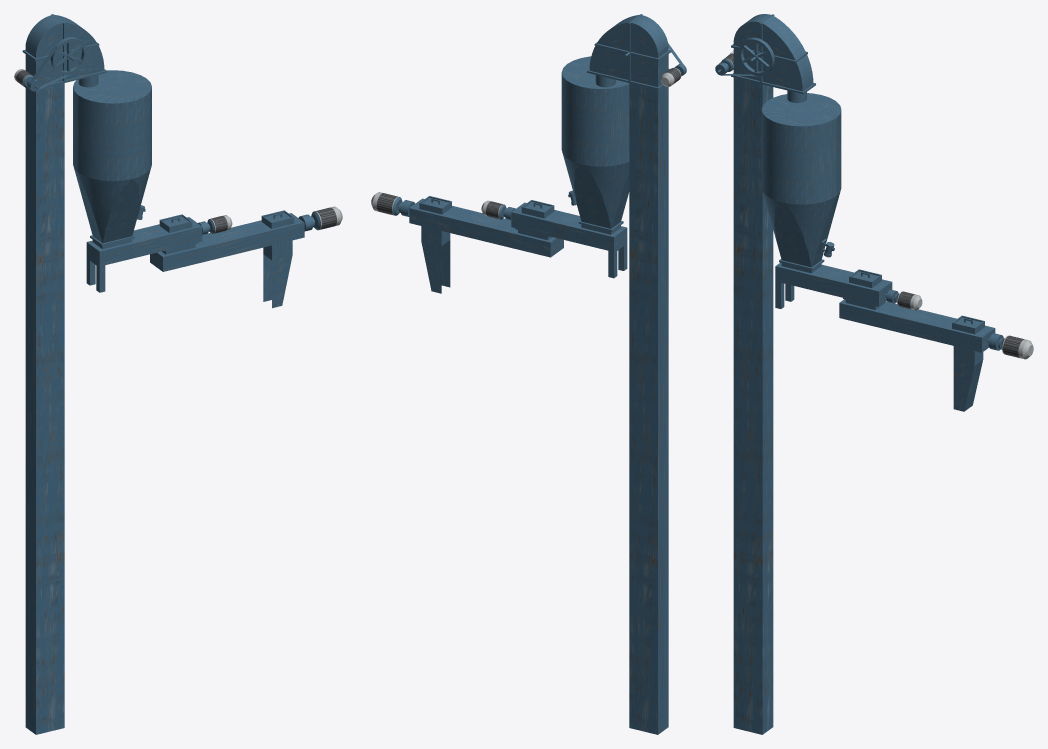
File: 致密机后输送.glb
3 renders of one model, left to right at view 1: azimuth 30°, elevation 25°; view 2: azimuth 150°, elevation 25°; view 3: azimuth 330°, elevation 25°, orthographic.
Visible parts, largest first — view 1: root.001, root; view 2: root.001, root; view 3: root.001, root.
Part boxes in pixels (bbox=[...]): root.001: bbox=[22, 14, 320, 734]; root: bbox=[16, 70, 336, 233]; root.001: bbox=[392, 14, 686, 734]; root: bbox=[376, 68, 680, 218]; root.001: bbox=[715, 14, 1004, 734]; root: bbox=[724, 54, 1024, 357].
Bounding box in the file's own units: 5.47 × 11.82 × 1.21.
Materials: 3 (3 with a texture image).
